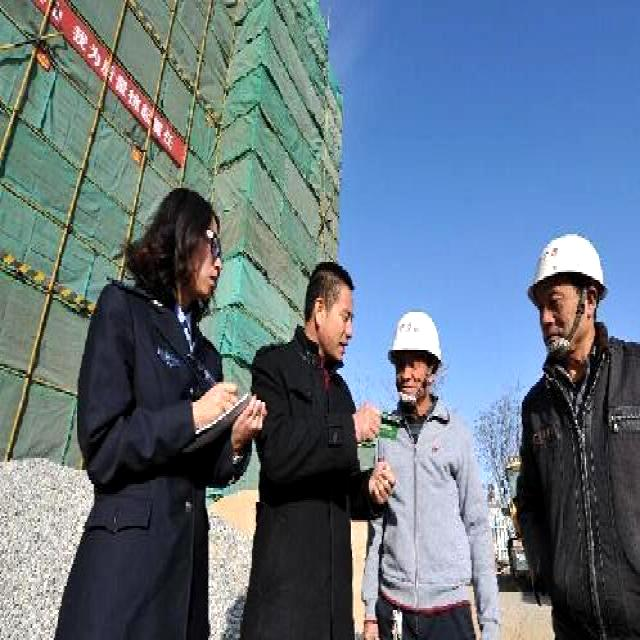hard_hat: (528, 234, 605, 306), (388, 310, 441, 370)
no_head_wear: (126, 188, 221, 278), (303, 260, 353, 318)
person: (54, 188, 251, 638), (240, 262, 378, 638), (515, 234, 639, 638), (362, 312, 497, 638)
